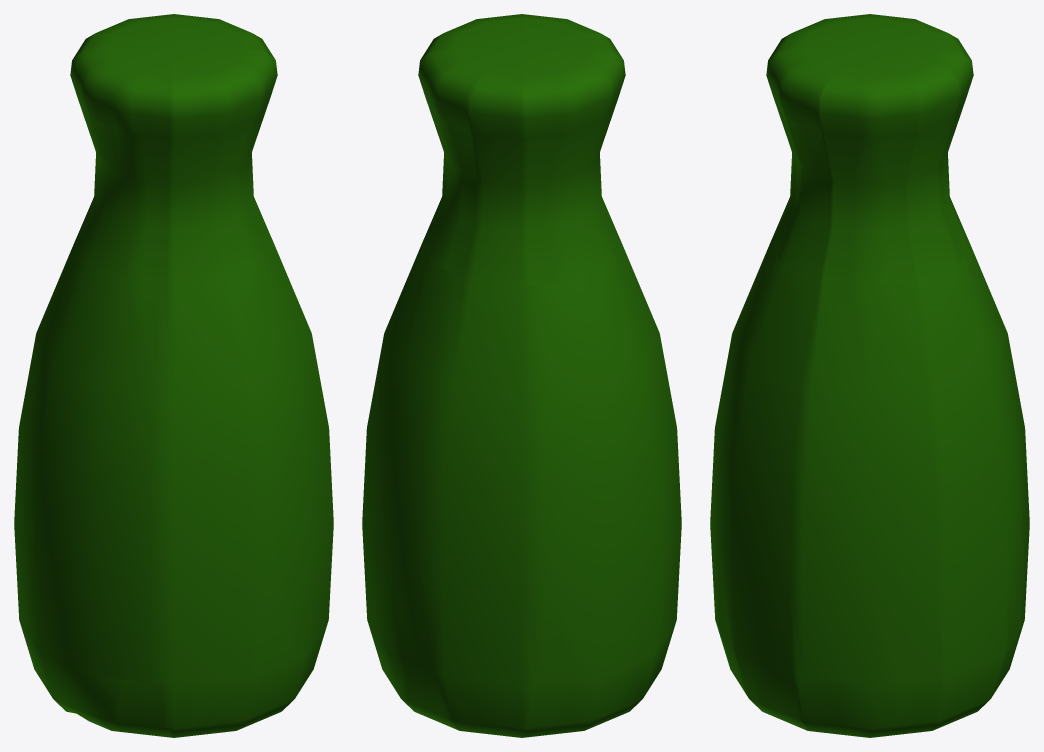
File: Jar.fbx
3 views of the same model, side by side, from view 1: azimuth 30°, elevation 25°; view 2: azimuth 150°, elevation 25°; view 3: azimuth 270°, elevation 25° (orthographic).
Visible parts, largest first — view 1: nurbsToPoly1; view 2: nurbsToPoly1; view 3: nurbsToPoly1.
Part boxes in pixels (x1=…): nurbsToPoly1: x1=14, y1=14, x2=333, y2=737; nurbsToPoly1: x1=362, y1=14, x2=681, y2=737; nurbsToPoly1: x1=710, y1=14, x2=1029, y2=737.
Bounding box in the file's own units: 4.65 × 10.39 × 4.65.
